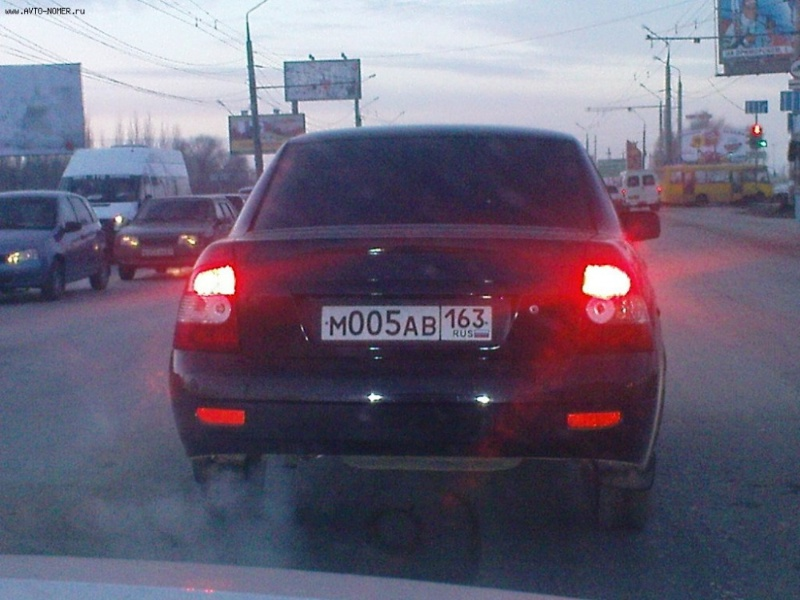car: (169, 125, 669, 527), (1, 191, 109, 301), (53, 147, 193, 227), (115, 196, 238, 280), (660, 163, 773, 207), (617, 168, 660, 208)
plate: (321, 305, 492, 339)
